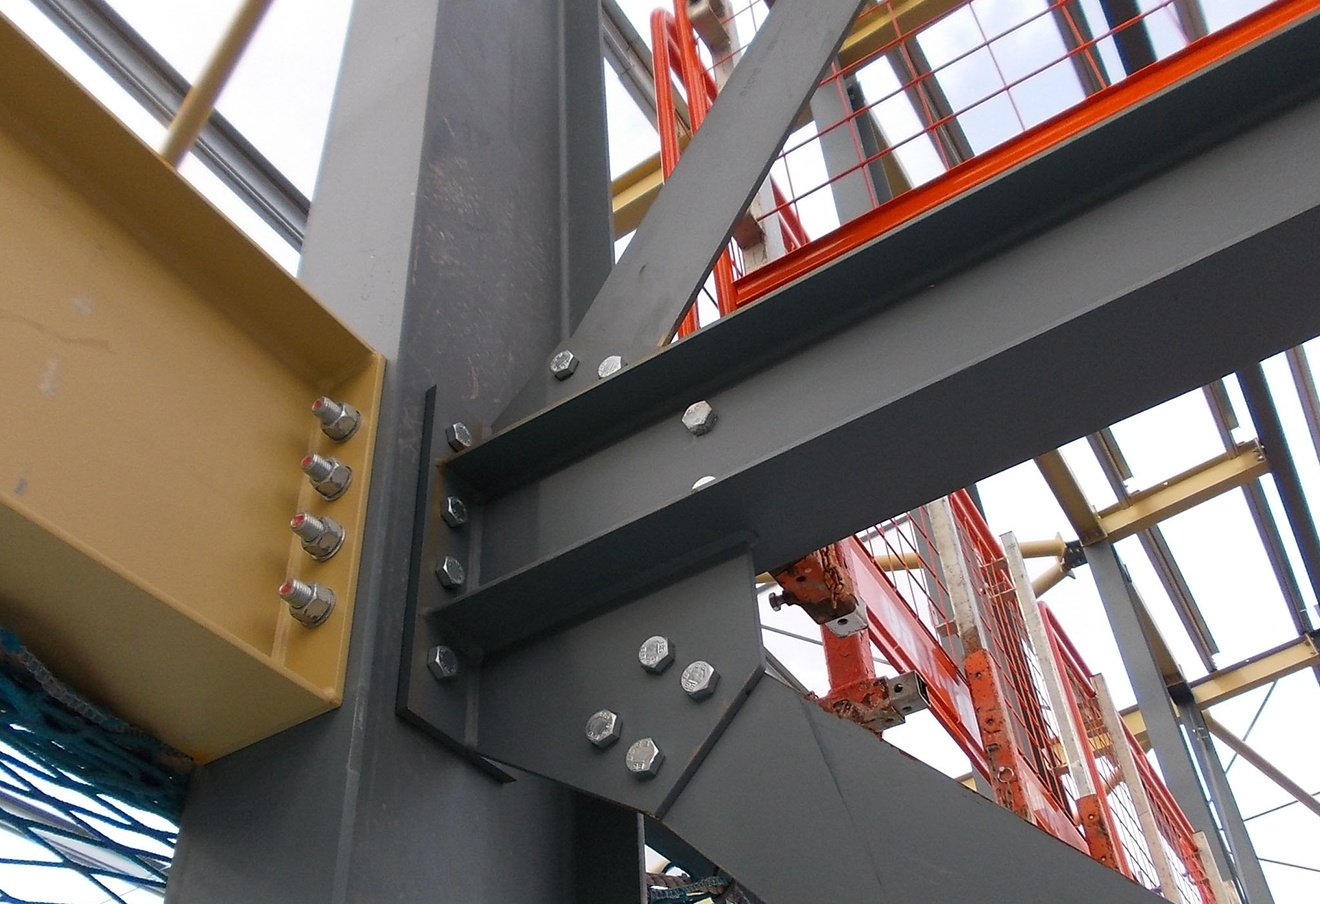bolt_a: (580, 703, 624, 752), (678, 657, 722, 704), (422, 637, 463, 686), (633, 634, 676, 678), (622, 736, 664, 781), (436, 485, 474, 531), (675, 400, 719, 436), (432, 551, 468, 592), (447, 415, 478, 456), (547, 349, 578, 381)
bolt_b: (286, 579, 331, 628), (294, 515, 343, 556), (315, 400, 359, 442), (307, 455, 351, 497)
vague: (594, 347, 631, 387)
